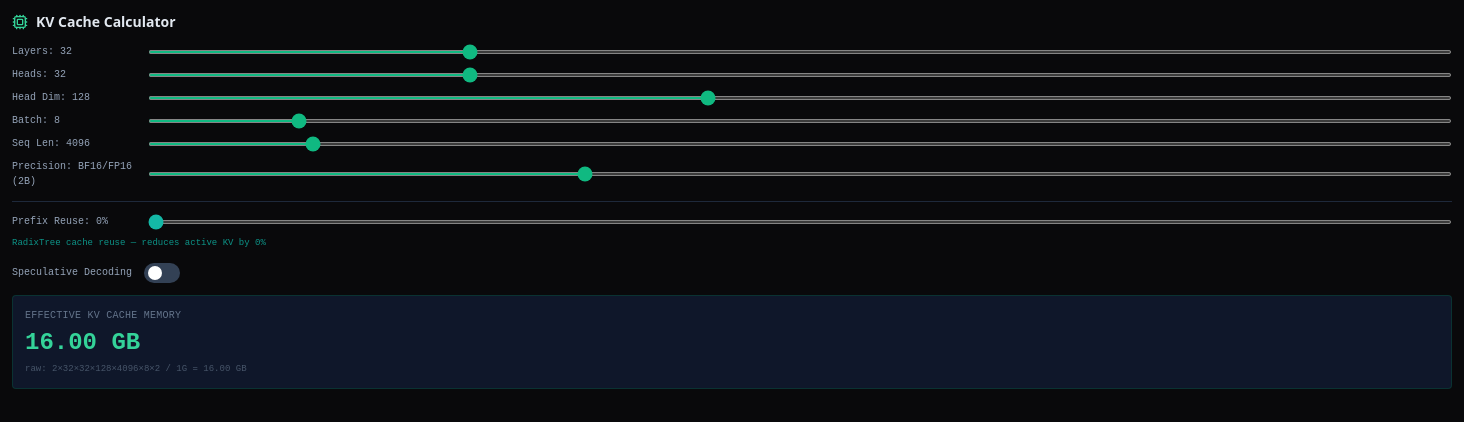
KVCacheCalc › speculative decoding toggle adds 15% overhead
What coordinates should you click on to do the following:
click the button
I would click on:
 (162, 272)
Its box is [144, 262, 180, 282].
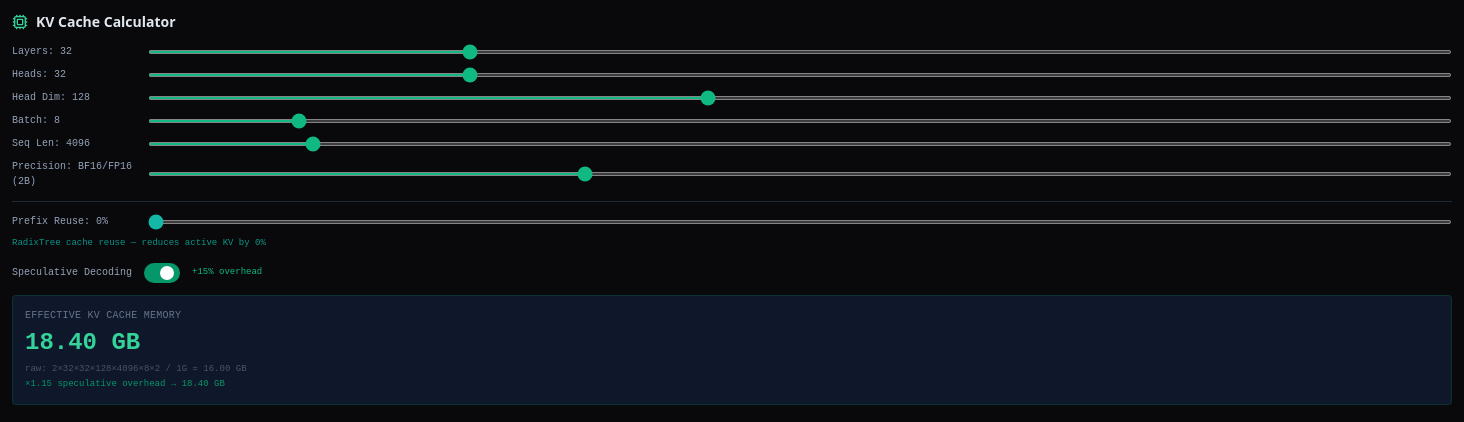
Expected: the text "18.40 GB" is shown, [25, 328, 140, 356]
Expected: the text "+15% overhead" is shown, [192, 266, 262, 279]
